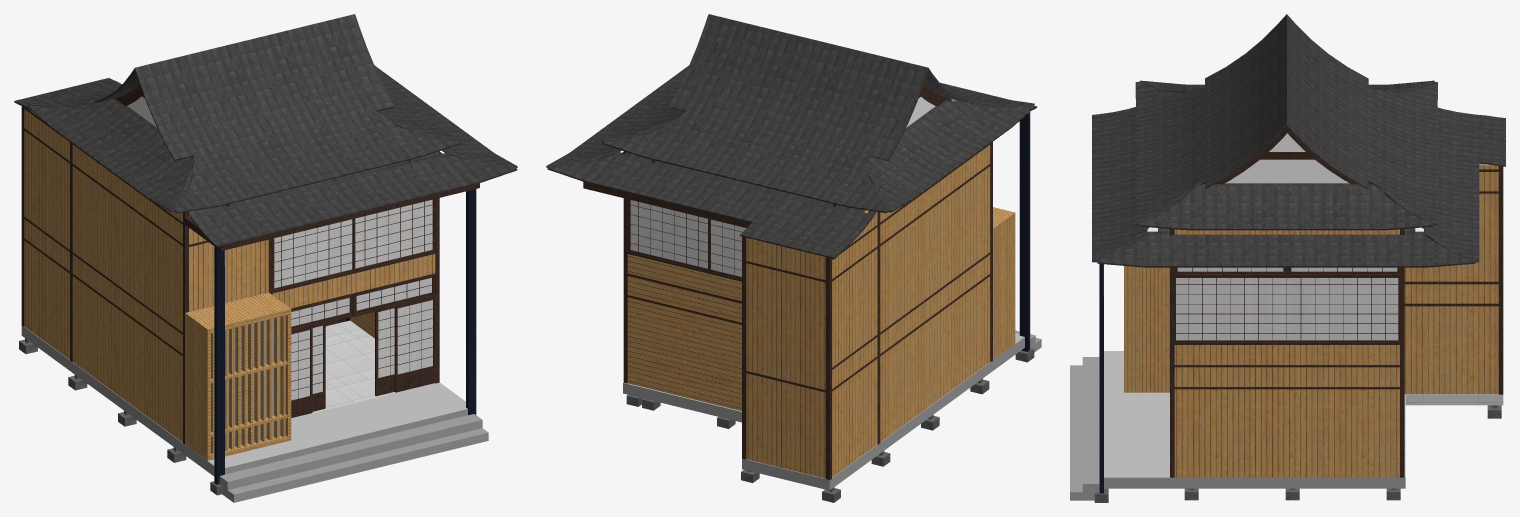
The model's file is HouseFinal-Source.fbx.
3 views of the same model, side by side, from view 1: azimuth 30°, elevation 25°; view 2: azimuth 150°, elevation 25°; view 3: azimuth 270°, elevation 25° (orthographic). The views are drawn at different scales.
Parts seen in each view (by area): view 1: roof001, WoodWalls001, exterior001, Box004, floor001, window001, door004, PaperWall001, door003; view 2: WoodWalls001, roof001, exterior001, window001, floor001, Box004; view 3: roof001, WoodWalls001, exterior001, window001, floor001, Box004.
Boxes of the visible parts, x1,y1,x2,y2 form: roof001: (14, 14, 517, 247); WoodWalls001: (24, 109, 435, 442); exterior001: (19, 84, 488, 502); Box004: (185, 292, 291, 460); floor001: (21, 320, 467, 476); window001: (274, 199, 432, 400); door004: (375, 307, 394, 396); PaperWall001: (228, 317, 280, 447); door003: (312, 324, 325, 411); WoodWalls001: (627, 99, 990, 478); roof001: (546, 14, 1037, 259); exterior001: (583, 42, 1041, 502); window001: (630, 200, 745, 276); floor001: (623, 333, 1024, 490); Box004: (993, 207, 1015, 359); roof001: (1092, 14, 1505, 267); WoodWalls001: (1174, 163, 1498, 477); exterior001: (1070, 42, 1503, 502); window001: (1176, 267, 1398, 340); floor001: (1104, 351, 1503, 488); Box004: (1124, 266, 1169, 392).
Bounding box in the file's own units: 9.37 × 9.81 × 10.66.
